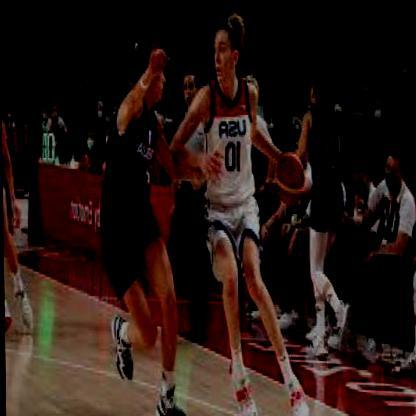basketball: (272, 148, 306, 202)
